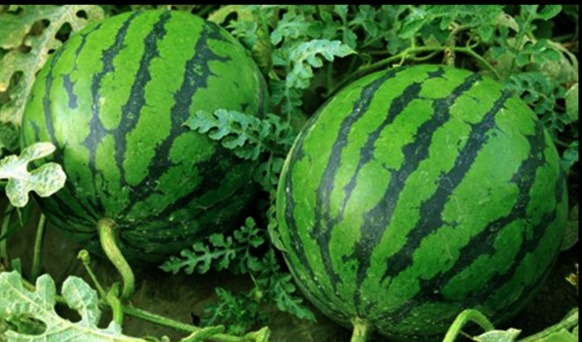watermelon: (284, 61, 570, 330), (19, 7, 267, 260)
